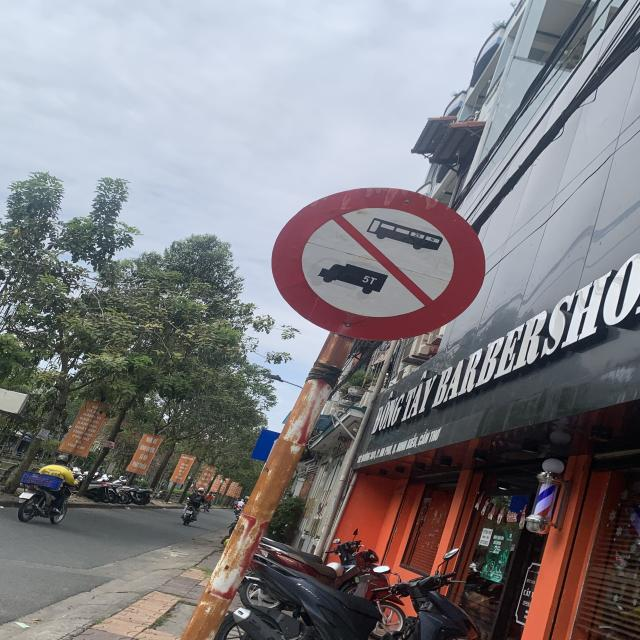Cam_XeTai_XeKhach: (271, 186, 489, 343)
